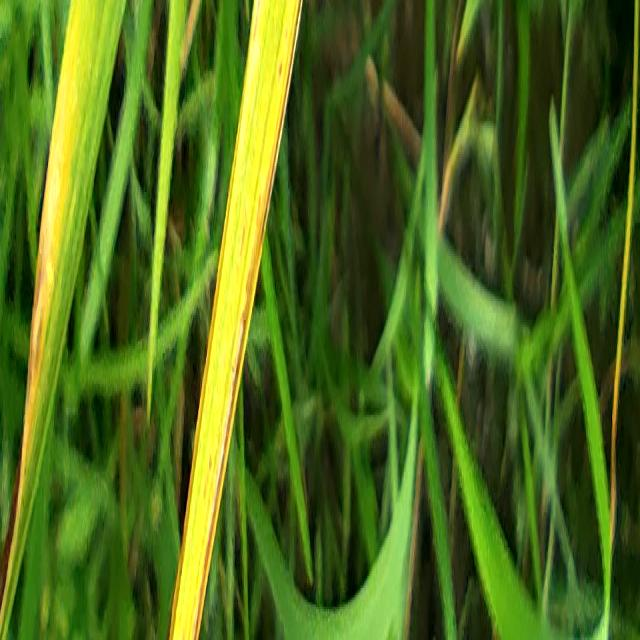LEAF BLAST: (254, 0, 261, 38)
